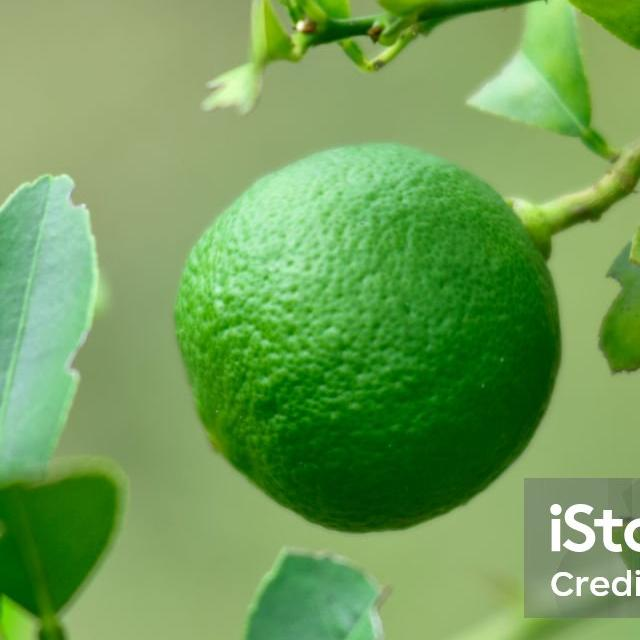lime: (169, 142, 562, 542)
